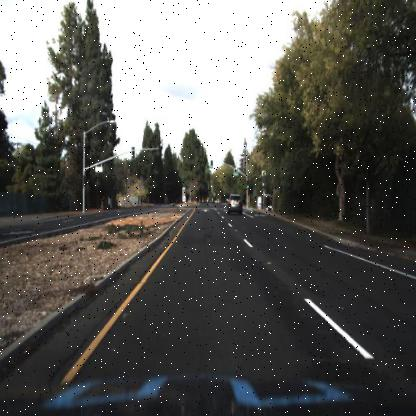car: (226, 193, 244, 216), (266, 201, 277, 217)
trafficLight-Green: (259, 175, 266, 189), (245, 178, 250, 192), (209, 157, 214, 170)
